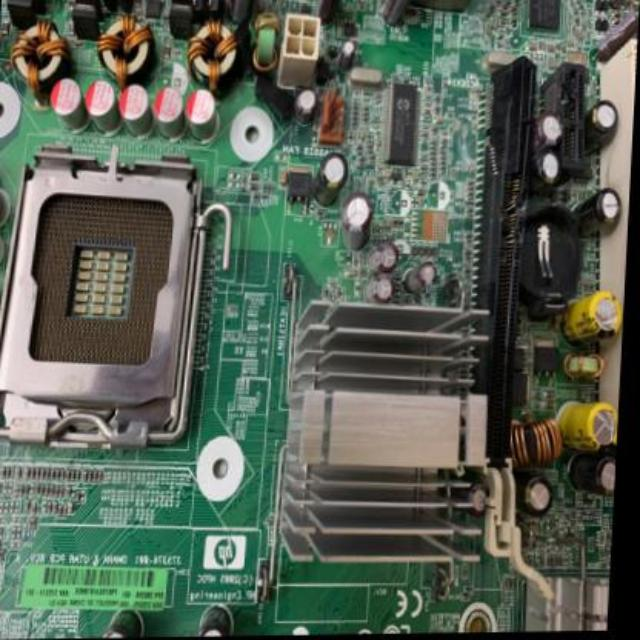PCB: (1, 2, 634, 640)
